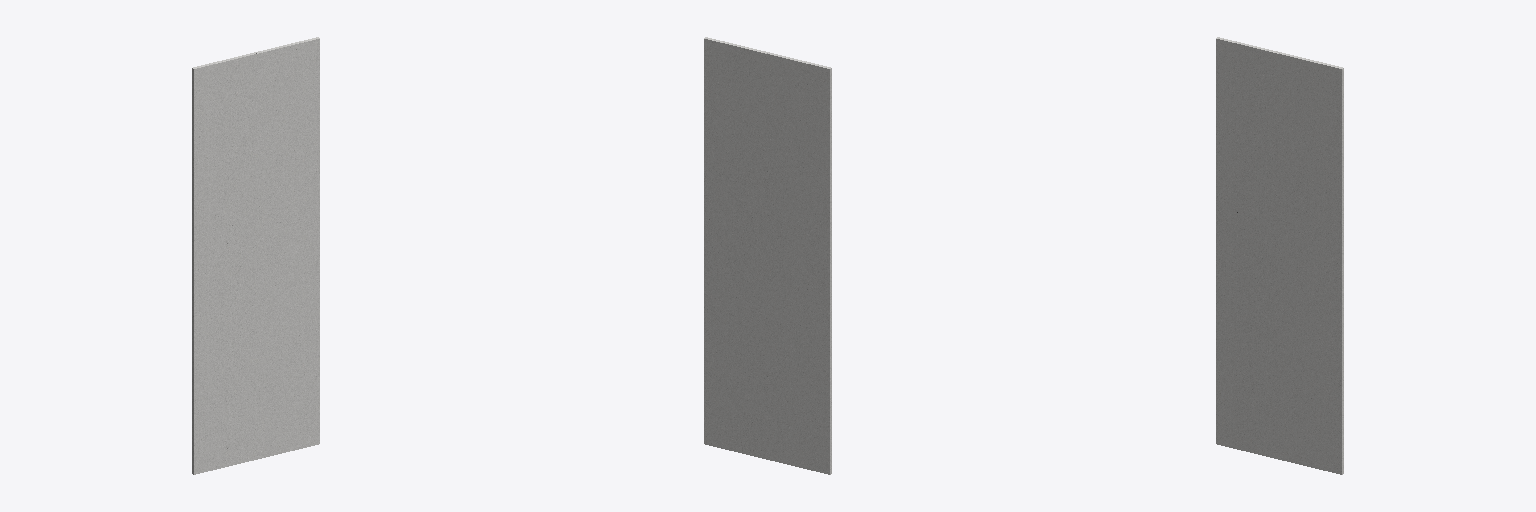
3 renders of one model, left to right at view 1: azimuth 30°, elevation 25°; view 2: azimuth 150°, elevation 25°; view 3: azimuth 330°, elevation 25°, orthographic.
Visible parts, largest first — view 1: door_2sides_Plane.004; view 2: door_2sides_Plane.004; view 3: door_2sides_Plane.004.
Part boxes in pixels (x1,y1,x2,y2): door_2sides_Plane.004: (192, 37, 319, 474); door_2sides_Plane.004: (704, 37, 831, 474); door_2sides_Plane.004: (1216, 37, 1343, 474).
Bounding box in the file's own units: 51.66 × 158 × 1.45.
1 materials, 1 textured.